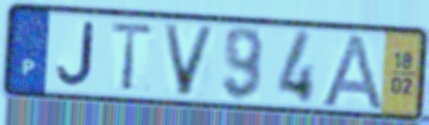4: (274, 27, 319, 109)
9: (221, 24, 264, 104)
A: (316, 31, 386, 113)
J: (54, 20, 96, 89)
T: (107, 19, 157, 93)
V: (160, 21, 219, 98)
